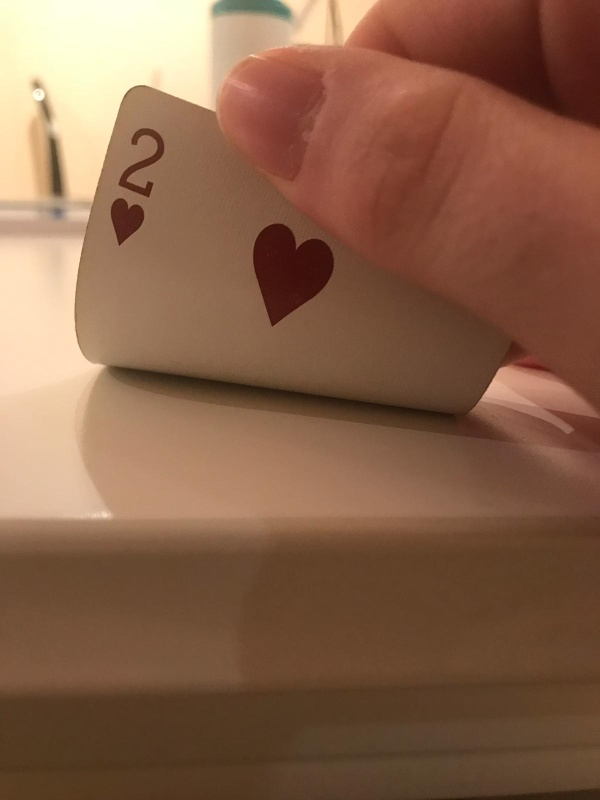H2: (108, 118, 175, 248)
